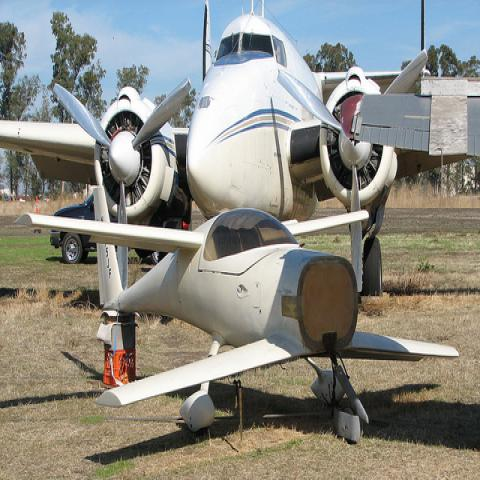truck: (51, 191, 159, 266)
